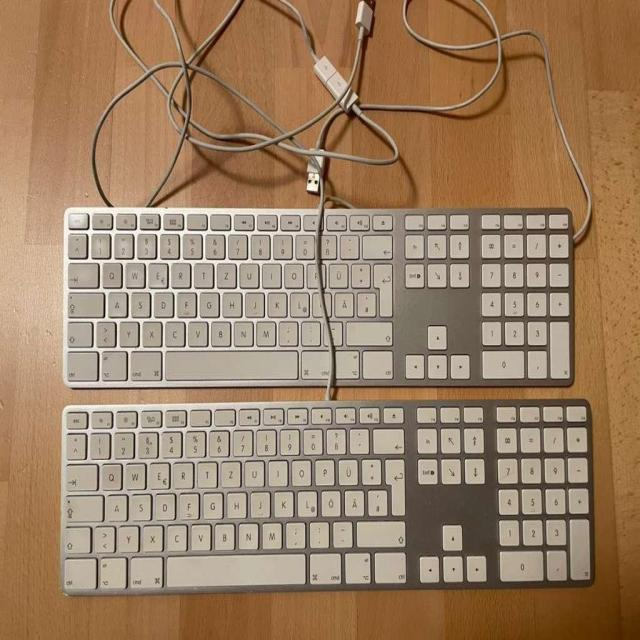0: (303, 428, 323, 456), (295, 233, 315, 259)
1: (88, 430, 110, 458), (90, 232, 111, 258)
2: (113, 430, 134, 457), (113, 231, 133, 257)
3: (136, 430, 158, 458), (136, 231, 156, 257)
4: (160, 429, 181, 458), (159, 233, 179, 259)
5: (184, 429, 205, 458), (181, 231, 202, 257)
6: (208, 428, 229, 457), (204, 232, 225, 259)
7: (232, 427, 253, 455), (228, 233, 248, 259)
8: (255, 428, 276, 454), (250, 234, 270, 260)
9: (279, 427, 299, 455), (272, 234, 292, 260)
a: (104, 492, 127, 520), (106, 289, 127, 317)
accent: (348, 427, 369, 453), (339, 232, 359, 258)
ae: (343, 487, 364, 516), (333, 289, 353, 316)
alt-left: (98, 554, 127, 588), (100, 349, 129, 382)
altgr-right: (342, 550, 372, 583), (333, 349, 360, 380)
b: (210, 318, 231, 345), (214, 521, 235, 548)
c: (166, 522, 187, 550), (164, 318, 184, 345)
caret: (65, 431, 86, 458), (66, 231, 86, 257)
comma: (284, 520, 305, 548), (278, 318, 298, 345)
d: (154, 491, 175, 519), (153, 289, 173, 317)
del: (372, 426, 404, 453), (361, 232, 392, 258)
e: (148, 459, 170, 488), (147, 260, 167, 287)
enter: (384, 455, 404, 514), (372, 260, 392, 315)
f: (178, 491, 199, 519), (176, 289, 196, 316)
g: (198, 289, 219, 316), (202, 490, 222, 518)
h: (226, 490, 246, 518), (221, 289, 241, 316)
hash: (366, 487, 387, 515), (355, 289, 376, 316)
i: (267, 457, 287, 485), (261, 263, 282, 289)
j: (249, 488, 270, 517), (244, 291, 265, 317)
k: (273, 488, 293, 517), (266, 291, 287, 317)
keyboard: (56, 395, 596, 597), (60, 203, 576, 390)
l: (296, 487, 317, 516), (289, 291, 309, 317)
less: (93, 523, 115, 552), (95, 319, 116, 346)
m: (261, 519, 281, 548), (255, 318, 276, 345)
minus: (331, 520, 352, 547)
n: (237, 520, 258, 548), (232, 318, 253, 345)
o: (291, 457, 311, 485), (284, 262, 304, 288)
oe: (320, 487, 340, 516)
p: (314, 457, 334, 484)
plus: (350, 263, 371, 289), (361, 457, 381, 483)
point: (299, 318, 320, 345), (308, 520, 328, 547)
q: (99, 460, 121, 488), (101, 260, 122, 286)
r: (172, 459, 193, 488), (170, 260, 190, 287)
s: (130, 491, 151, 520), (130, 289, 150, 317)
shift-left: (65, 319, 92, 347), (62, 525, 89, 552)
shift-lock: (63, 492, 102, 521), (66, 289, 103, 316)
shift-right: (355, 518, 406, 546), (345, 318, 393, 344)
space: (165, 551, 305, 586), (163, 348, 298, 381)
ss: (326, 429, 346, 455), (317, 233, 337, 259)
strg-left: (61, 555, 96, 590), (65, 348, 98, 382)
strg-right: (373, 550, 408, 583), (361, 348, 394, 379)
t: (196, 458, 216, 487), (193, 260, 213, 287)
tab: (63, 462, 96, 490), (66, 260, 98, 287)
u: (244, 457, 265, 486), (238, 260, 259, 287)
ue: (328, 262, 349, 288), (337, 457, 357, 484)
v: (190, 521, 211, 549), (187, 318, 208, 345)
w: (123, 460, 146, 488), (124, 260, 145, 287)
x: (142, 522, 163, 551), (141, 319, 161, 346)
y: (116, 523, 139, 551), (118, 319, 139, 346)
z: (220, 458, 241, 487), (215, 260, 236, 287)
